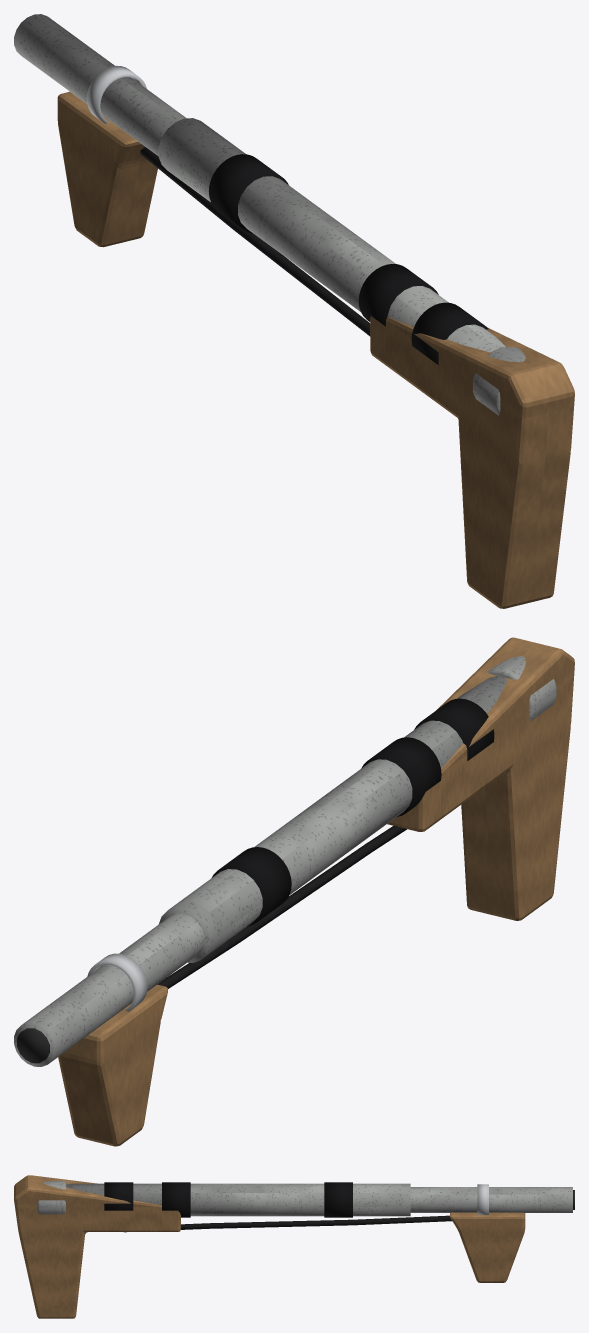
File: sumpak.glb
The picture shows the model from 3 angles, top to bottom: view 1: azimuth 30°, elevation 25°; view 2: azimuth 150°, elevation 25°; view 3: azimuth 270°, elevation 25°; orthographic projection. The views are drawn at different scales.
Parts seen in each view (by area): view 1: grip, outer, fhandle, inner, band, tape2, tape1, tape0, cap, clamp; view 2: grip, outer, fhandle, inner, band, tape2, tape1, tape0, cap, clamp, bore; view 3: grip, outer, inner, fhandle, band, tape2, tape1, tape0, cap, clamp.
Part boxes in pixels (bbox=[...]): grip: bbox=[370, 316, 574, 608]; outer: bbox=[158, 118, 505, 352]; fhandle: bbox=[57, 91, 157, 247]; inner: bbox=[14, 14, 186, 156]; band: bbox=[140, 147, 370, 336]; tape2: bbox=[208, 154, 288, 233]; tape1: bbox=[358, 264, 438, 326]; tape0: bbox=[411, 302, 488, 364]; cap: bbox=[473, 347, 525, 415]; clamp: bbox=[86, 65, 146, 123]; grip: bbox=[387, 637, 574, 920]; outer: bbox=[159, 675, 506, 962]; fhandle: bbox=[58, 984, 167, 1146]; inner: bbox=[14, 913, 204, 1066]; band: bbox=[157, 826, 406, 988]; tape2: bbox=[212, 847, 291, 926]; tape1: bbox=[361, 737, 441, 816]; tape0: bbox=[414, 698, 494, 760]; cap: bbox=[487, 656, 556, 720]; clamp: bbox=[87, 953, 147, 1011]; bore: bbox=[17, 1028, 49, 1063]; grip: bbox=[14, 1175, 180, 1318]; outer: bbox=[66, 1183, 410, 1216]; inner: bbox=[410, 1187, 572, 1212]; fhandle: bbox=[450, 1212, 525, 1282]; band: bbox=[124, 1215, 451, 1232]; tape2: bbox=[324, 1182, 352, 1217]; tape1: bbox=[162, 1182, 190, 1217]; tape0: bbox=[104, 1182, 133, 1210]; cap: bbox=[37, 1181, 66, 1214]; clamp: bbox=[477, 1184, 488, 1214].
Bounding box in the file's own units: 0.0394 × 0.1516 × 0.5866.
Materials: 6 (4 with a texture image).
